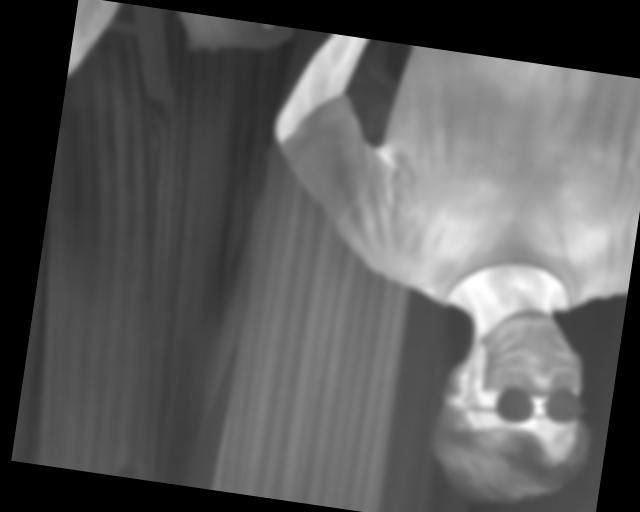face: (423, 297, 602, 512)
